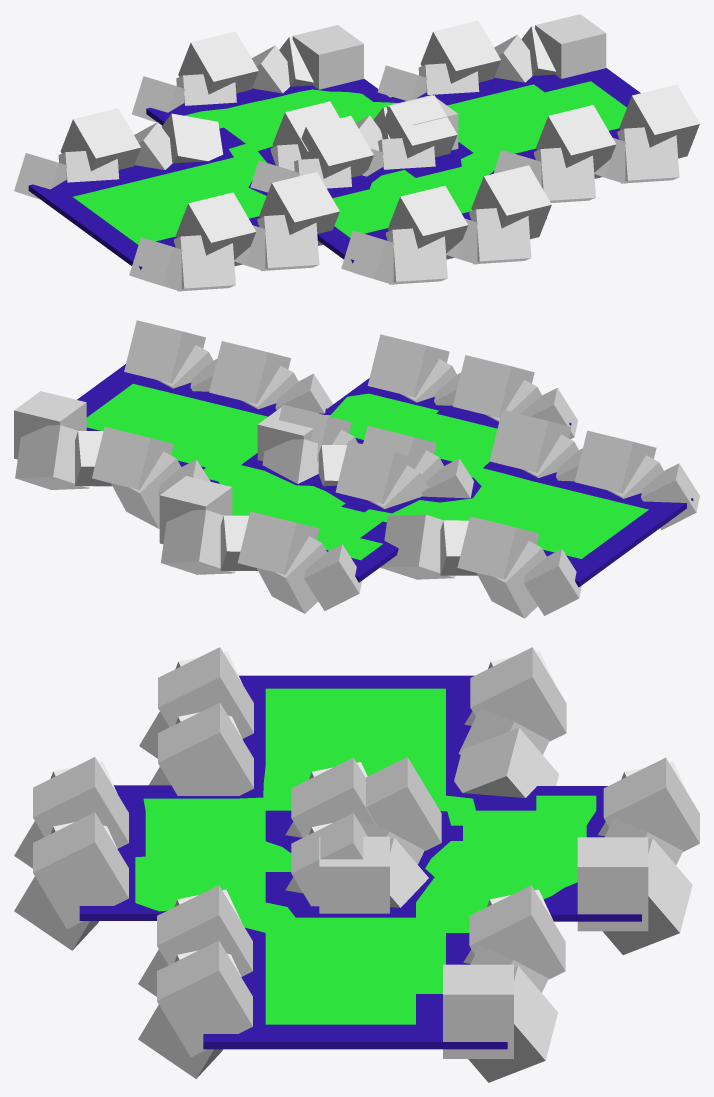
The model's file is updated-navmesh.gltf.
The picture shows the model from 3 angles, top to bottom: view 1: azimuth 30°, elevation 25°; view 2: azimuth 150°, elevation 25°; view 3: azimuth 270°, elevation 25°; orthographic projection. The views are drawn at different scales.
Visible parts, largest first — view 1: Plane, Cube.040, Cube.012, Cube.005, Cube.002, Cube.028, Cube.047, Cube.015, Cube.021, Cube.044, Cube.037, Cube.050 (+37 smaller); view 2: Plane, Cube.040, Cube.029, Cube.003, Cube.042, Cube.024, Cube.005, Cube.021, Cube.037, Cube.050, Cube.012, Cube.047 (+37 smaller); view 3: Plane, Cube.001, Cube.012, Cube.005, Cube.044, Cube.040, Cube.028, Cube.008, Cube.002, Cube.037, Cube.024, Cube.050 (+18 smaller).
Boxes of the visible parts, bbox=[...] form: Plane: bbox=[73, 81, 626, 244]; Cube.040: bbox=[28, 138, 260, 269]; Cube.012: bbox=[471, 165, 551, 239]; Cube.005: bbox=[619, 84, 699, 158]; Cube.002: bbox=[535, 14, 606, 78]; Cube.028: bbox=[292, 25, 363, 89]; Cube.047: bbox=[175, 192, 256, 266]; Cube.015: bbox=[388, 185, 468, 259]; Cube.021: bbox=[536, 105, 616, 178]; Cube.044: bbox=[259, 172, 339, 245]; Cube.037: bbox=[178, 31, 258, 94]; Cube.050: bbox=[60, 108, 140, 171]; Plane: bbox=[86, 383, 648, 560]; Cube.040: bbox=[382, 461, 693, 587]; Cube.029: bbox=[161, 509, 235, 574]; Cube.003: bbox=[15, 425, 89, 489]; Cube.042: bbox=[380, 514, 455, 579]; Cube.024: bbox=[92, 427, 173, 489]; Cube.005: bbox=[124, 320, 205, 383]; Cube.021: bbox=[209, 341, 290, 403]; Cube.037: bbox=[237, 511, 319, 574]; Cube.050: bbox=[457, 516, 539, 579]; Cube.012: bbox=[367, 334, 449, 397]; Cube.047: bbox=[574, 430, 656, 493]; Plane: bbox=[135, 688, 596, 1024]; Cube.001: bbox=[203, 913, 507, 1049]; Cube.012: bbox=[33, 812, 128, 928]; Cube.005: bbox=[157, 940, 252, 1057]; Cube.044: bbox=[158, 702, 253, 795]; Cube.040: bbox=[204, 675, 474, 798]; Cube.028: bbox=[577, 837, 648, 931]; Cube.008: bbox=[79, 785, 319, 920]; Cube.002: bbox=[443, 964, 513, 1058]; Cube.037: bbox=[603, 757, 699, 851]; Cube.024: bbox=[469, 885, 565, 979]; Cube.050: bbox=[470, 647, 566, 741].
Size of the model in its own units: 139 by 21.49 by 109.
